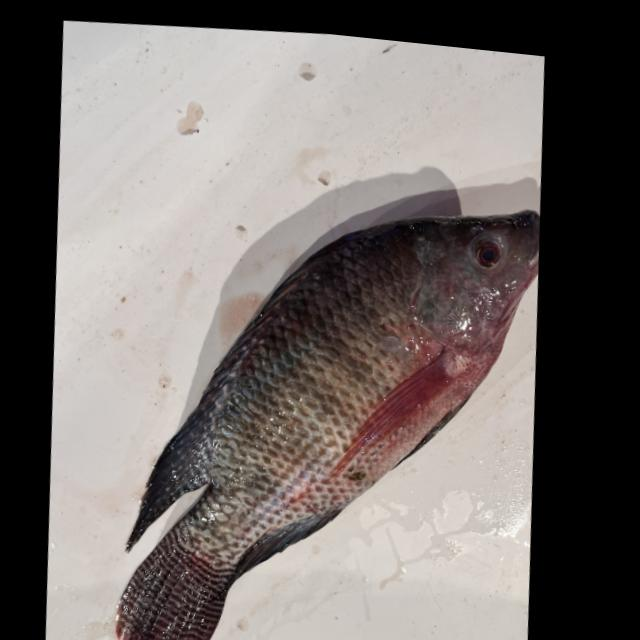Tilapia: (89, 167, 564, 640)
